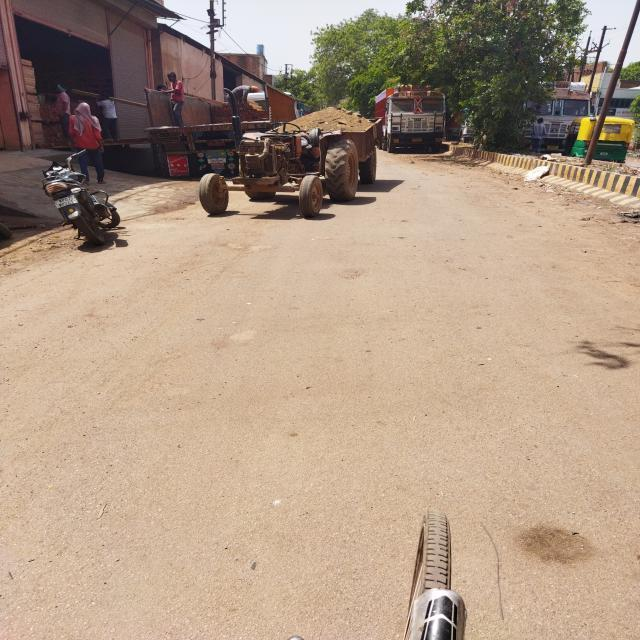auto_back: (558, 112, 636, 166)
tractor_front: (195, 108, 385, 216)
truck_back: (142, 82, 305, 173)
truck_front: (512, 78, 595, 156), (368, 81, 456, 150)
two_wheeler_back: (33, 148, 123, 255)
